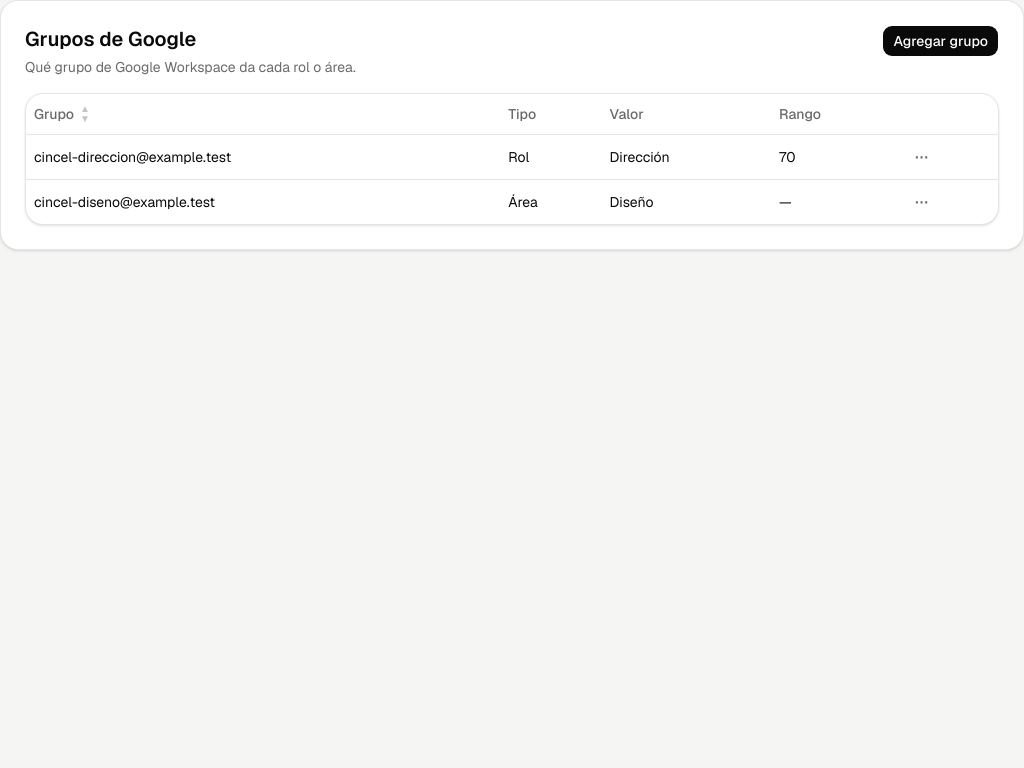
GoogleGroupMappings › shows "El grupo no existe" when Google does not find the group
Click the button named "Acciones". click: (922, 156)
box: [908, 142, 936, 170]
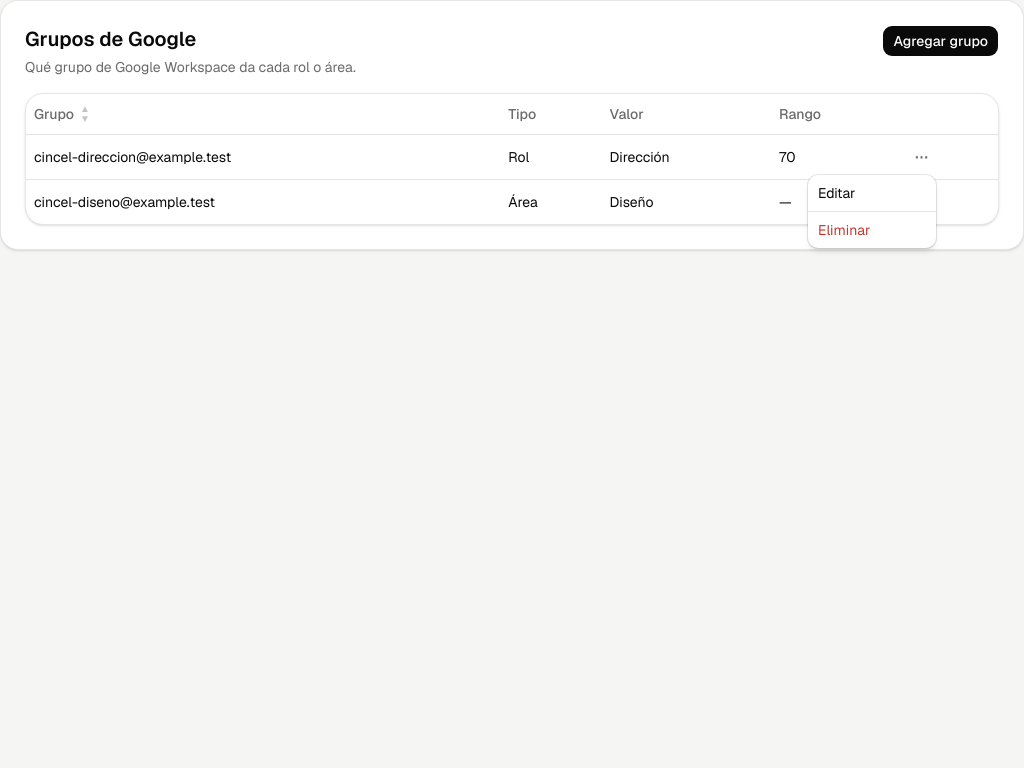
Click the menu item "Editar". click: (837, 193)
box: [818, 184, 855, 202]
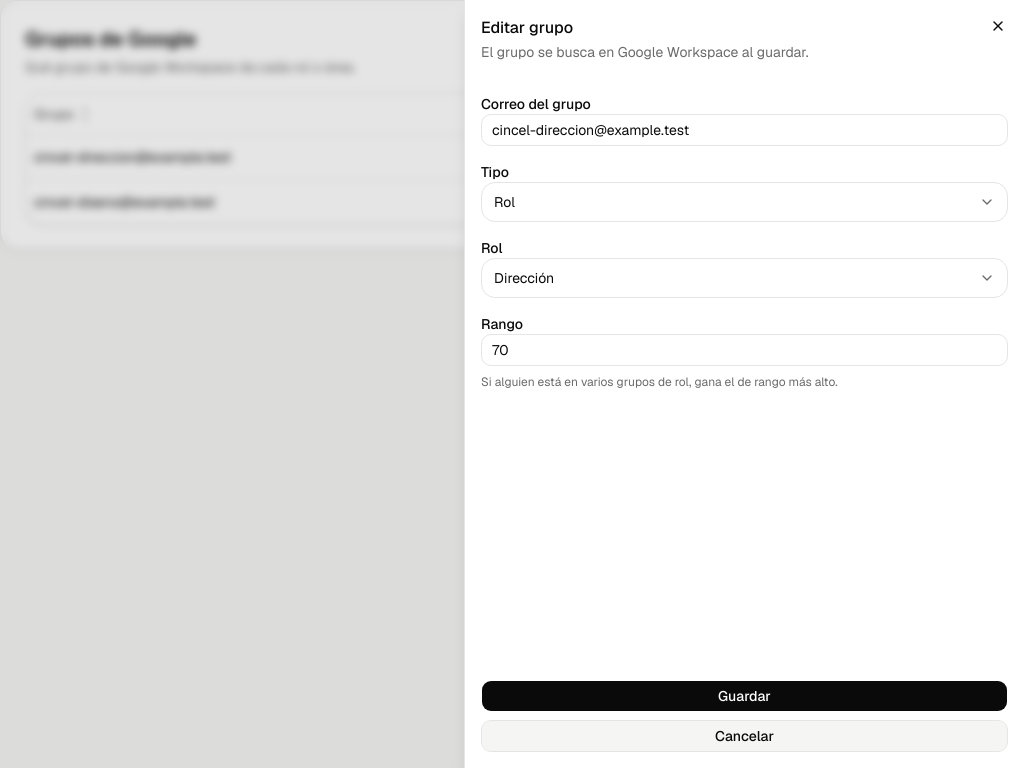
Expected: the field labelled "Correo del grupo" holds "cincel-direccion@example.test"
Replace the text in the field labelled "Correo del grupo" with "no-existe@example.test". click: (744, 130)
box: [481, 114, 1008, 146]
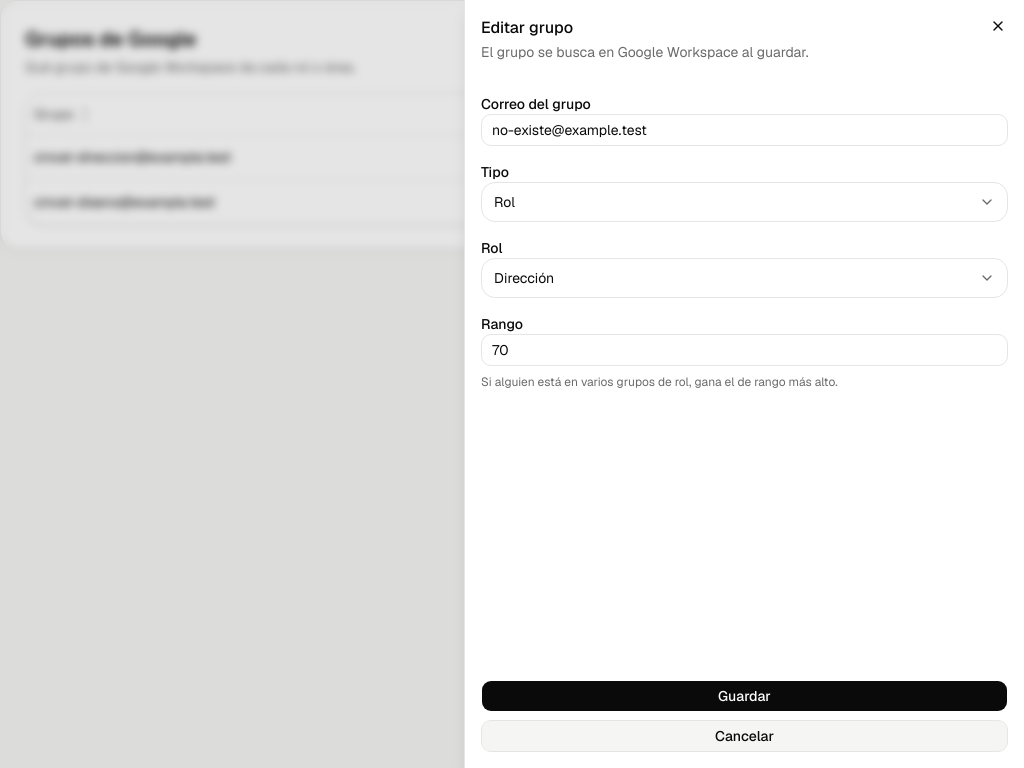
Click the button "Guardar". click: (744, 696)
box: [481, 680, 1008, 712]
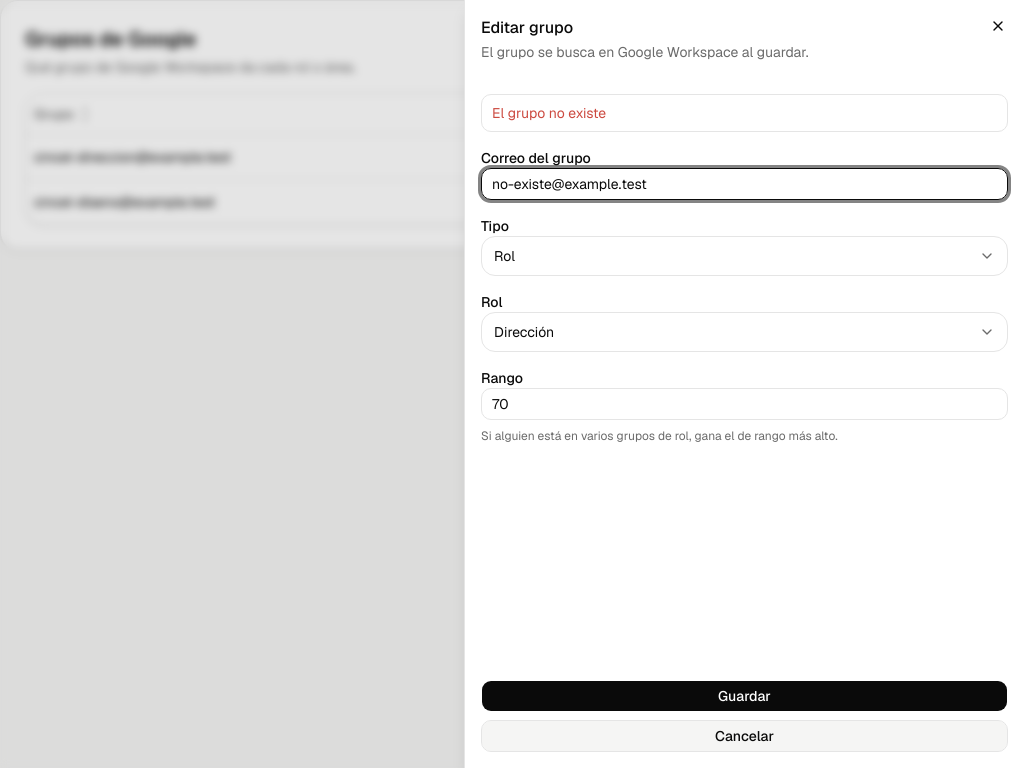
Expected: the text "El grupo no existe" is shown, [492, 104, 606, 122]
